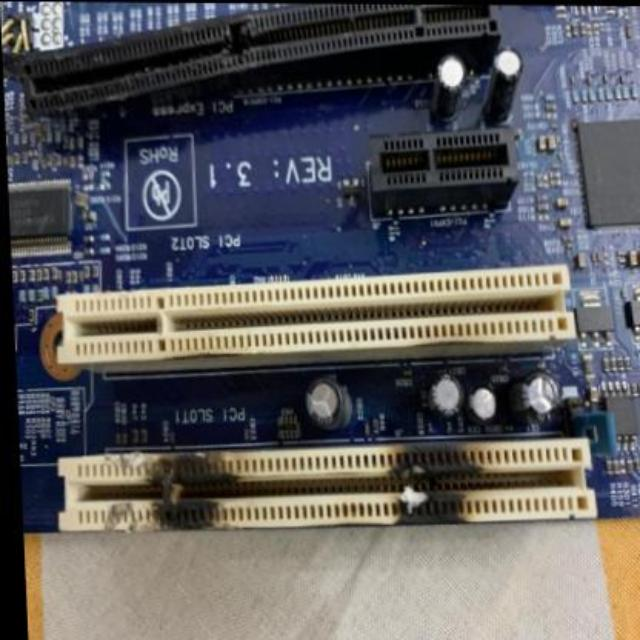PCB: (5, 1, 640, 526)
